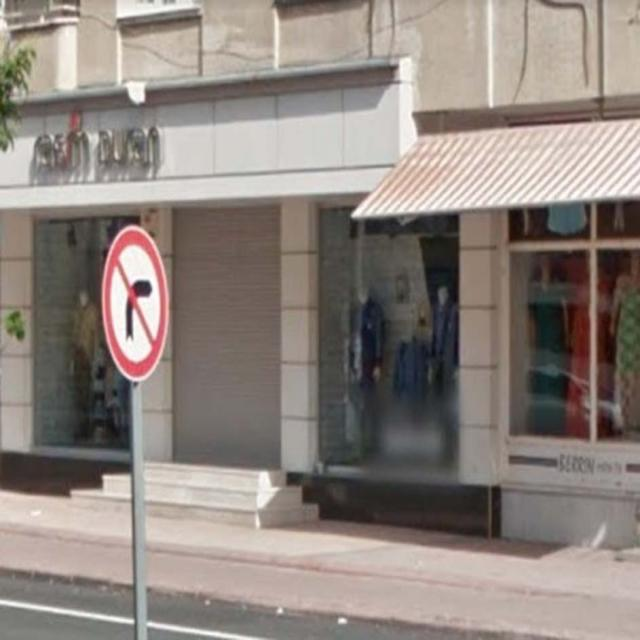sagadonulmez: (103, 224, 170, 380)
